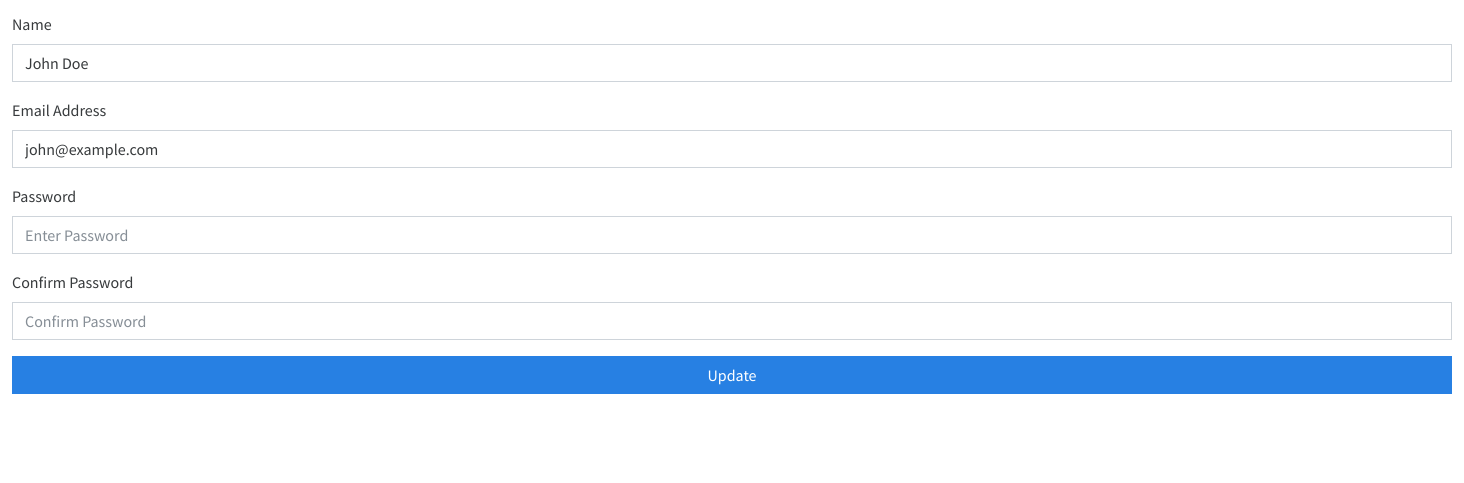
update current user details in the form
Expected: the button with test id "submit-btn" is shown, [12,356,1452,394]
Expected: the field showing "john@example.com" is shown, [12,130,1452,168]
Clear the field showing "John Doe": (732, 63) [12,44,1452,82]
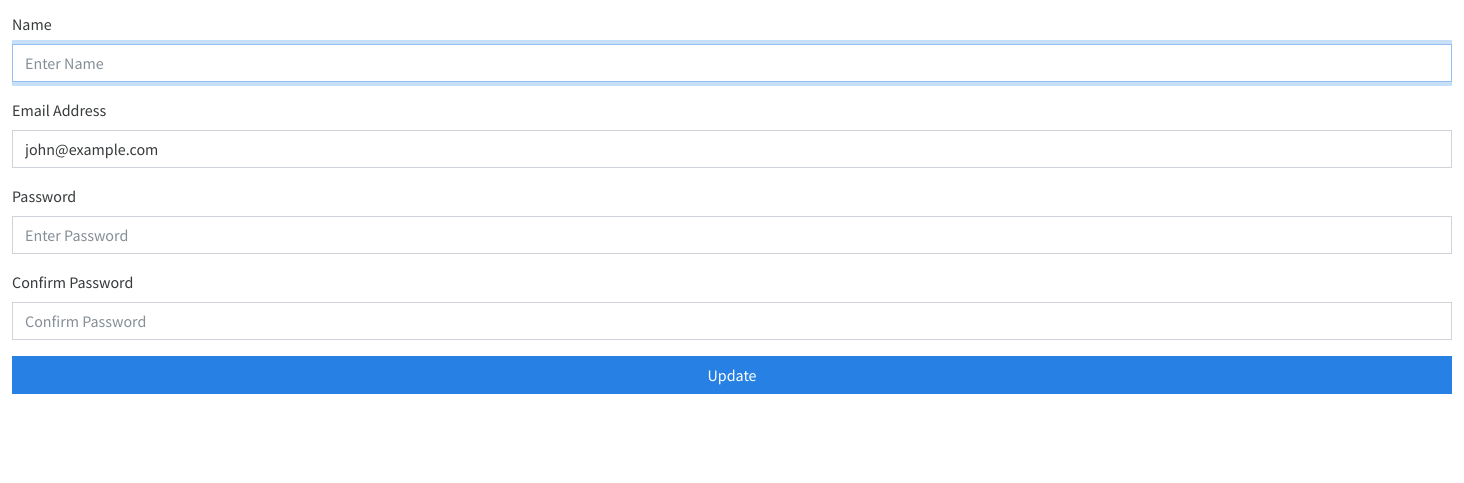
Clear the field showing "john@example.com": (732, 149) [12,130,1452,168]
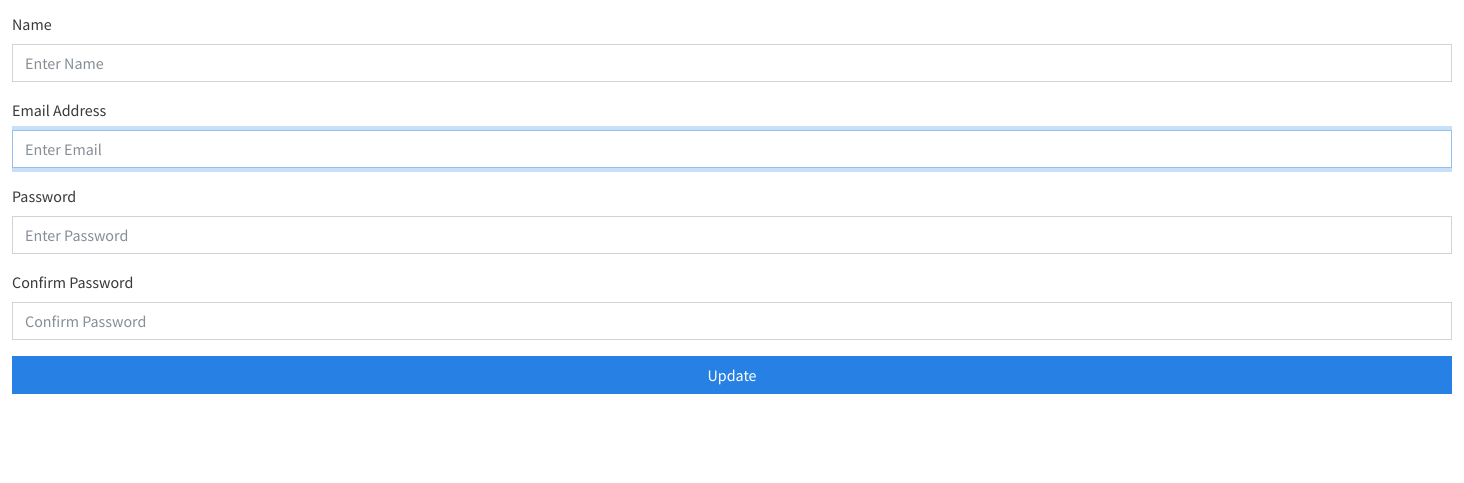
In the field showing "John Doe": (732, 63) [12,44,1452,82], type "foo"
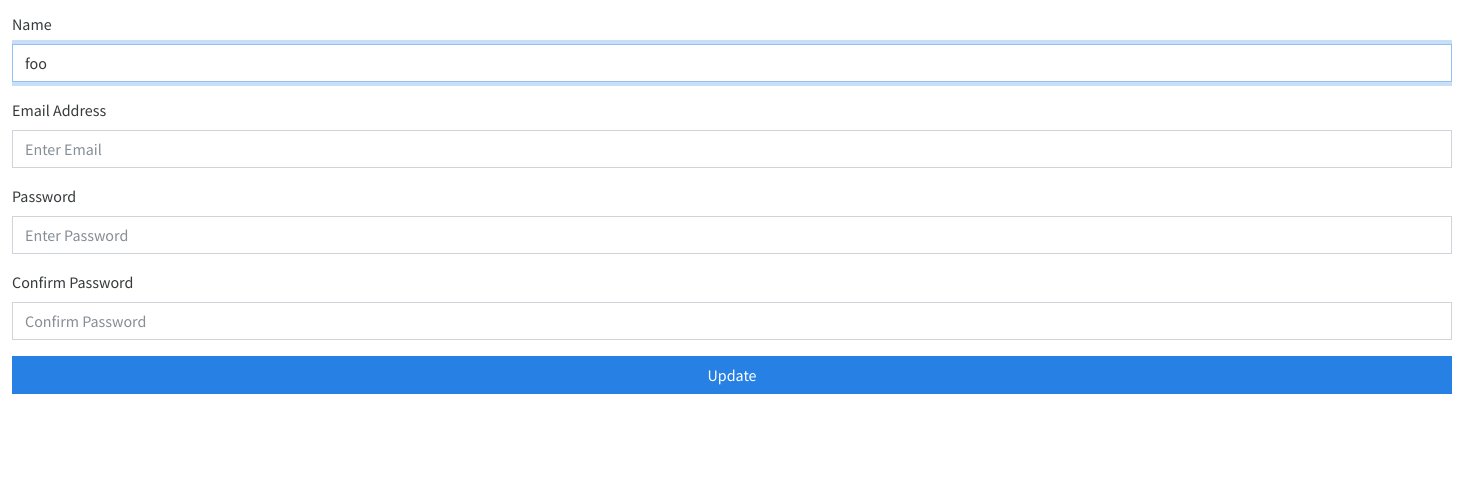
In the field showing "john@example.com": (732, 149) [12,130,1452,168], type "foo@bar.com"
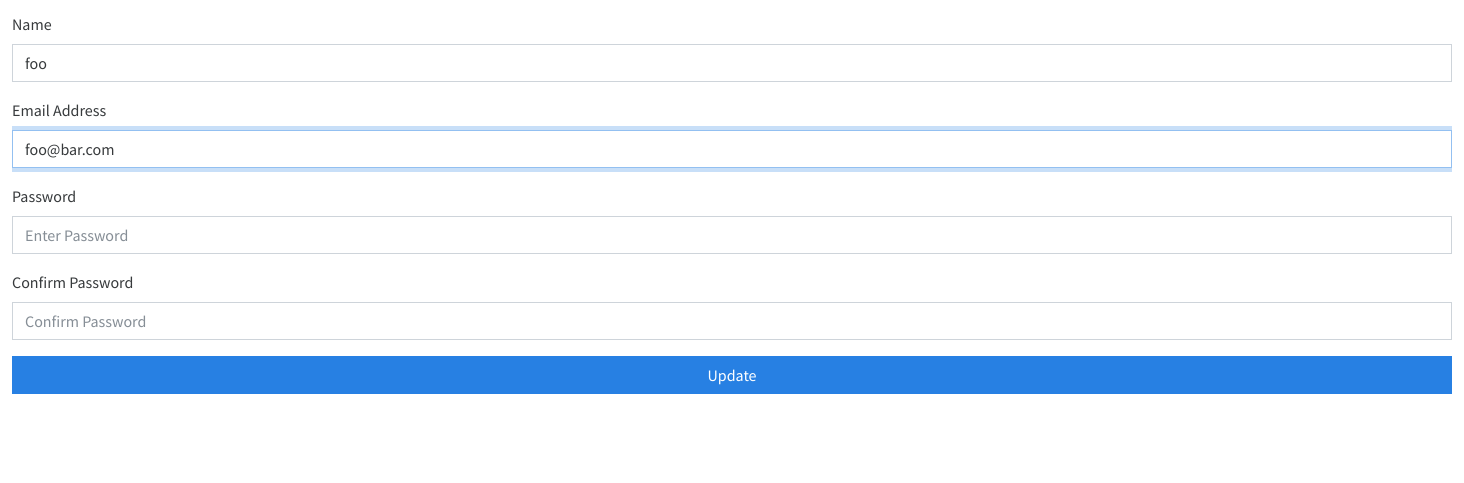
Submit the form with test id "profile-form"
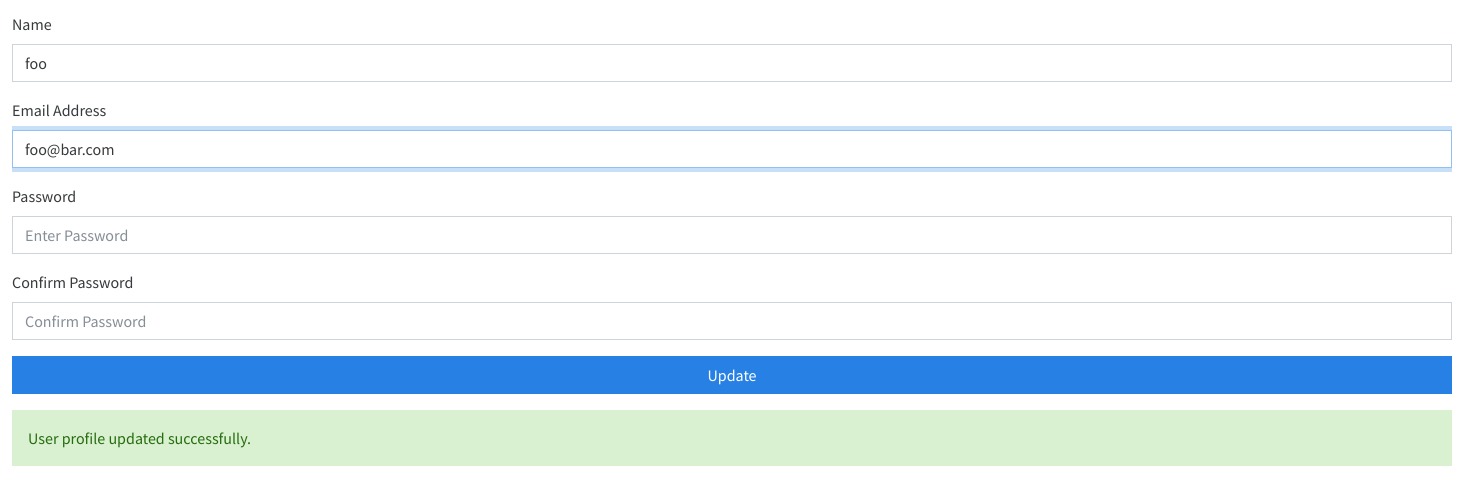
Now the text "User profile updated successfully." is shown, box [12,410,1452,466]
